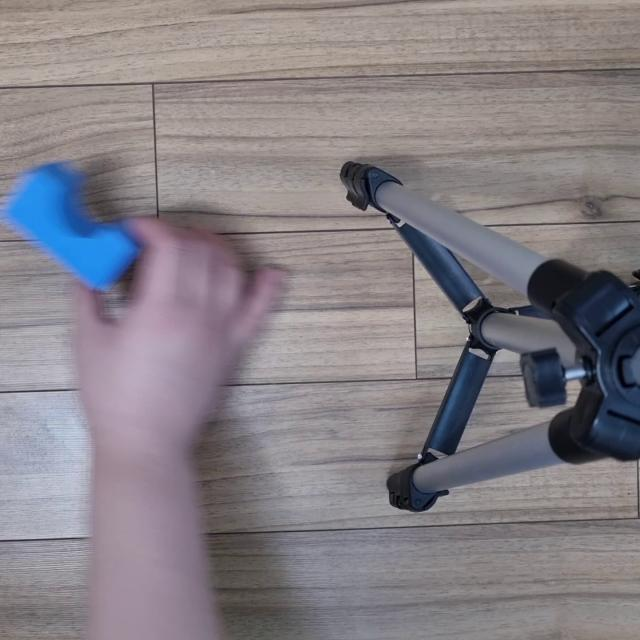block: (7, 164, 138, 294)
hand: (72, 217, 314, 462)
